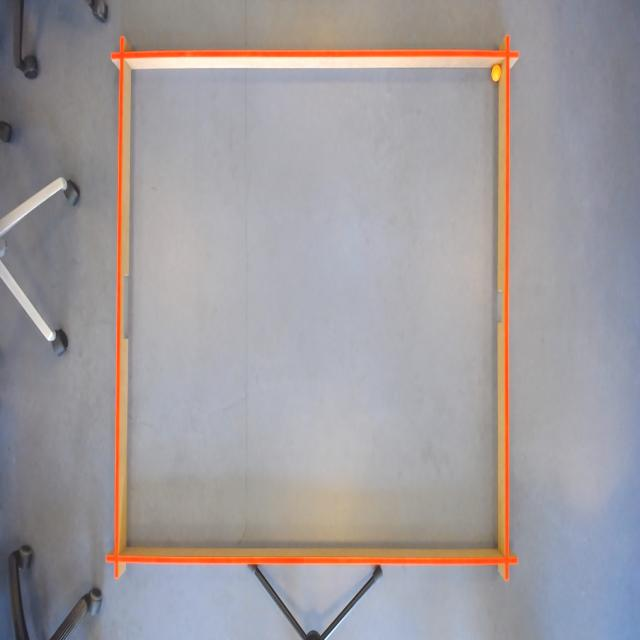orange_ball: (491, 64, 502, 85)
